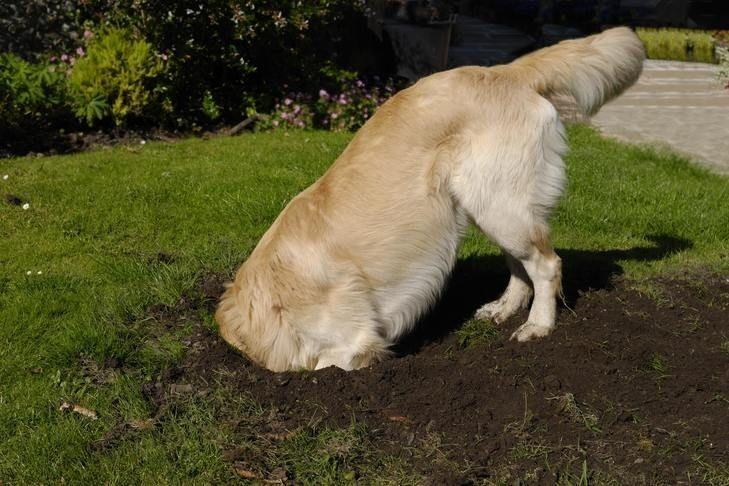adult_dog: (213, 24, 648, 374)
